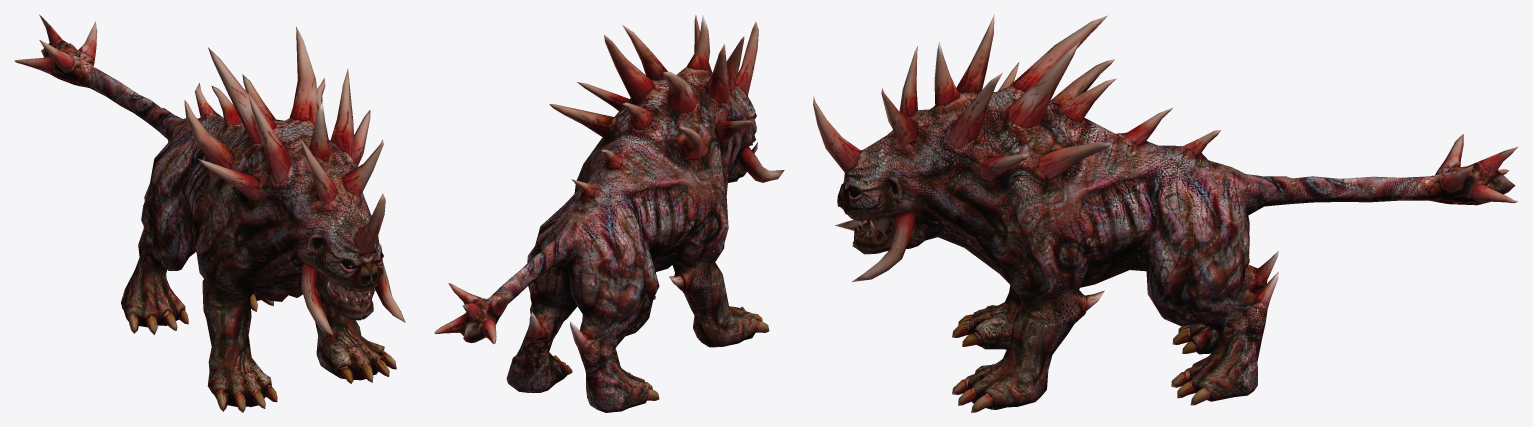
Rendered from Hellhound.fbx.
The picture shows the model from 3 angles, left to right: view 1: azimuth 30°, elevation 25°; view 2: azimuth 150°, elevation 25°; view 3: azimuth 270°, elevation 25°; orthographic projection. The views are drawn at different scales.
Visible parts, largest first — view 1: Object_10; view 2: Object_10; view 3: Object_10.
Part boxes in pixels (x1,y1,x2,y2): Object_10: [14, 14, 405, 412]; Object_10: [434, 15, 784, 412]; Object_10: [813, 14, 1518, 412].
Size of the model in its own units: 162 by 281 by 511.
1 material, 1 textured.
